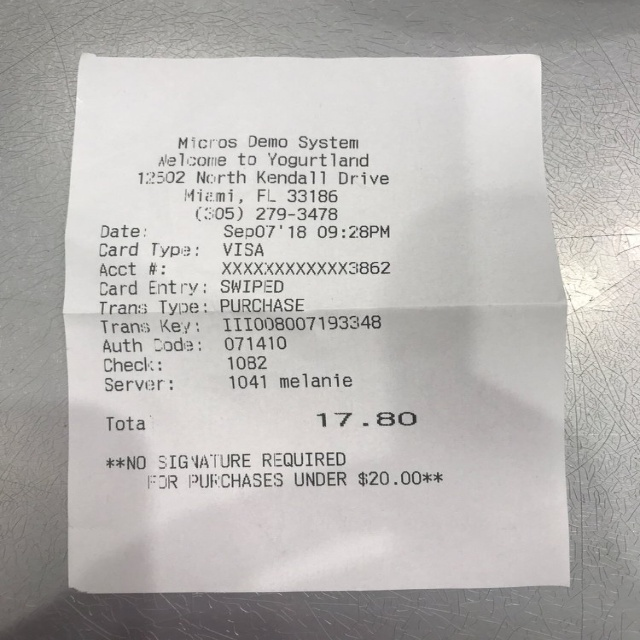invoice_table: (100, 299, 381, 391)
invoice_title: (138, 135, 391, 203)
invoice_total: (104, 411, 418, 433)
